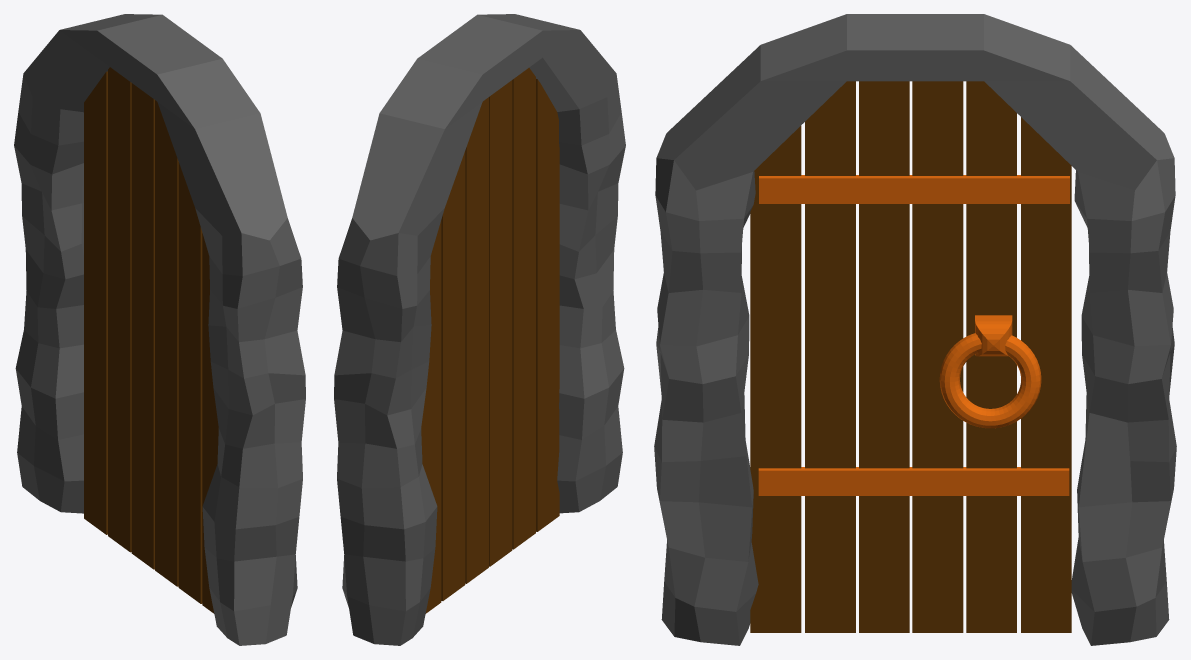
Rendered from door.fbx.
The picture shows the model from 3 angles, left to right: view 1: azimuth 30°, elevation 25°; view 2: azimuth 150°, elevation 25°; view 3: azimuth 270°, elevation 25°; orthographic projection. The views are drawn at different scales.
Visible parts, largest first — view 1: Cube; view 2: Cube; view 3: Cube.
Boxes of the visible parts, x1,y1,x2,y2 form: Cube: (14, 14, 305, 645); Cube: (334, 14, 625, 645); Cube: (654, 14, 1176, 645).
Bounding box in the file's own units: 106 × 680 × 537.
